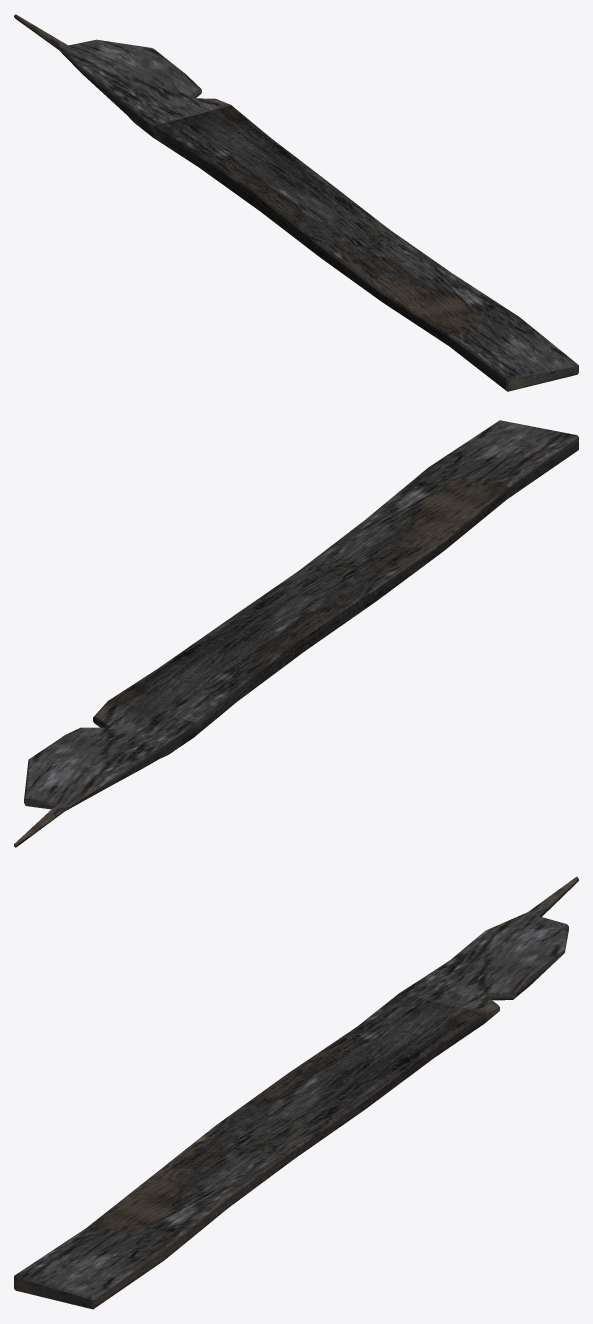
File: broken plank.fbx
3 views of the same model, one above another, from view 1: azimuth 30°, elevation 25°; view 2: azimuth 150°, elevation 25°; view 3: azimuth 330°, elevation 25° (orthographic). The views are drawn at different scales.
Visible parts, largest first — view 1: Plank Processed, Plank Debris; view 2: Plank Processed, Plank Debris; view 3: Plank Processed, Plank Debris.
Part boxes in pixels (x1,y1,x2,y2): Plank Processed: (153,105,578,391); Plank Debris: (14,14,231,138); Plank Processed: (110,420,578,735); Plank Debris: (14,700,195,847); Plank Processed: (14,994,485,1309); Plank Debris: (398,876,578,1024).
Bounding box in the file's own units: 32.68 × 7.45 × 356.
Materials: 1 (1 with a texture image).
